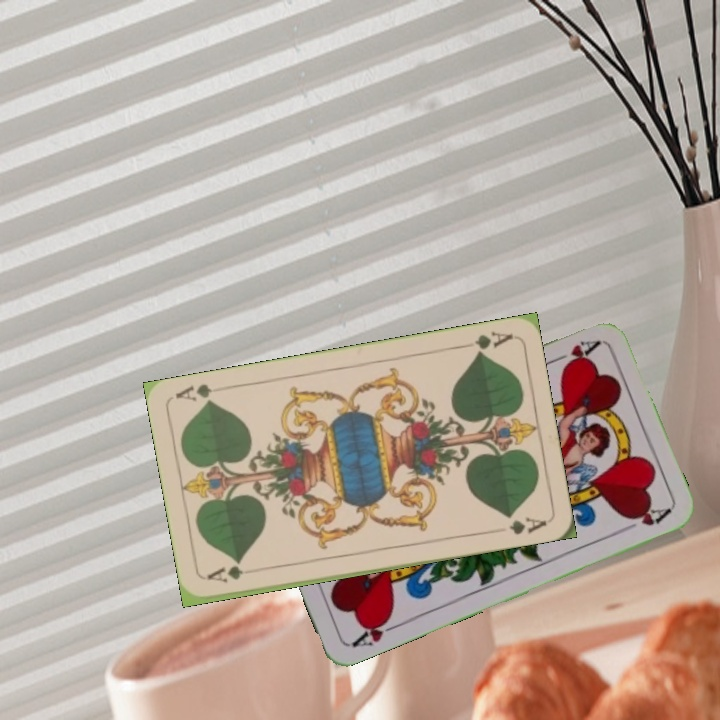GA: (456, 327, 515, 357), (202, 562, 262, 585)
HA: (347, 611, 404, 650), (545, 336, 602, 369)
